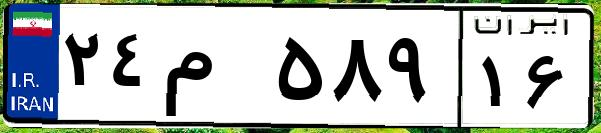1: (475, 38, 525, 113)
2: (57, 26, 110, 100)
4: (110, 28, 158, 98)
5: (270, 28, 330, 110)
6: (525, 38, 570, 115)
8: (330, 28, 385, 110)
9: (385, 28, 445, 110)
م: (158, 20, 270, 120)
